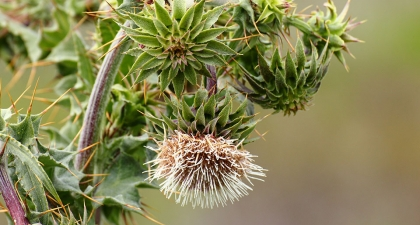thistle: (139, 86, 274, 209)
